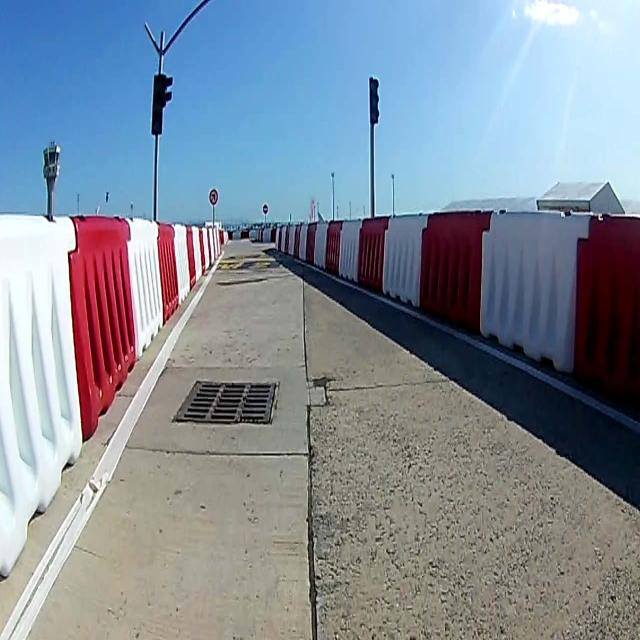soladonulmez: (209, 188, 219, 206)
